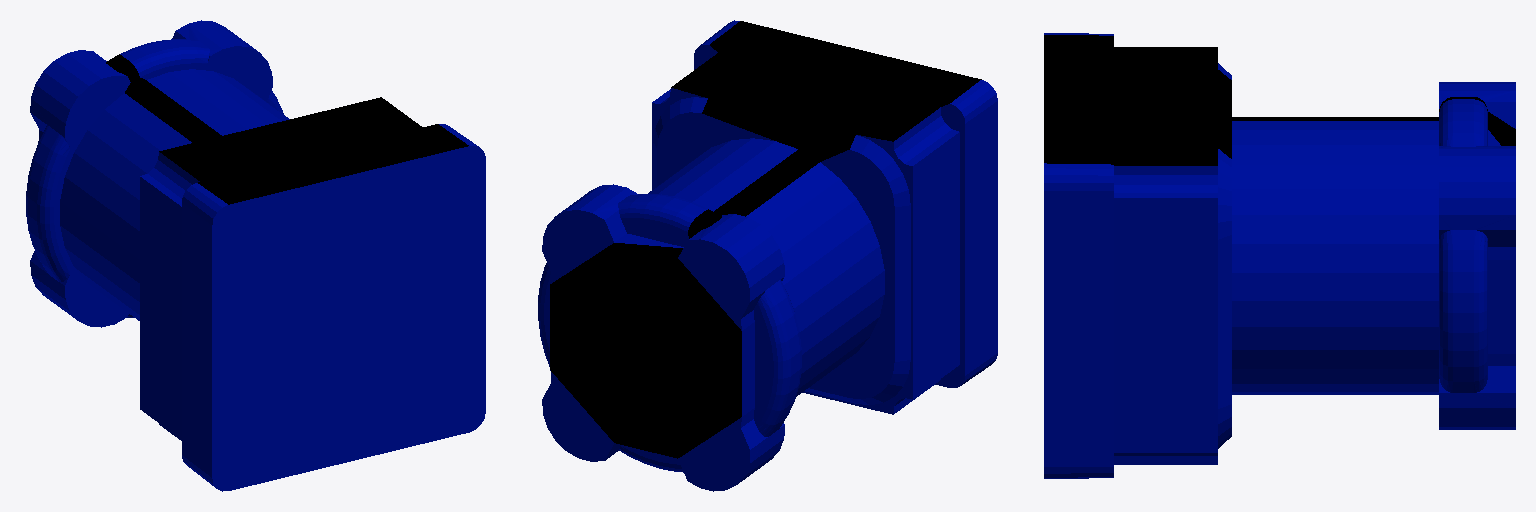
URDF robot description (laser):
<robot name="laser">
    <link
    name="laser_link">
    
    <visual>
      <origin
        xyz="0 0 0"
        rpy="0 0 0" />
      <geometry>
        <mesh
          filename="package://rbt_description/meshes/blender.dae" />
      </geometry>
      
    </visual>
    
  </link>
  </robot>

--- Render facts (derived) ---
3 views of the same robot in one strip: view 1: azimuth 30°, elevation 25°; view 2: azimuth 150°, elevation 25°; view 3: azimuth 270°, elevation 25° (orthographic).
Model laser with 1 links and 0 joints (none), rooted at laser_link, posed all joints at 0.
Links seen in each view (by area): view 1: laser_link; view 2: laser_link; view 3: laser_link.
Link boxes in pixels (x1,y1,x2,y2): laser_link: (26, 20, 485, 491); laser_link: (538, 20, 997, 491); laser_link: (1044, 33, 1515, 478).
Size in the robot's own frame: 0.05 by 0.068 by 0.05 metres.
Meshes: 1 distinct files referenced, 1 mesh visuals loaded (1 Collada DAE).